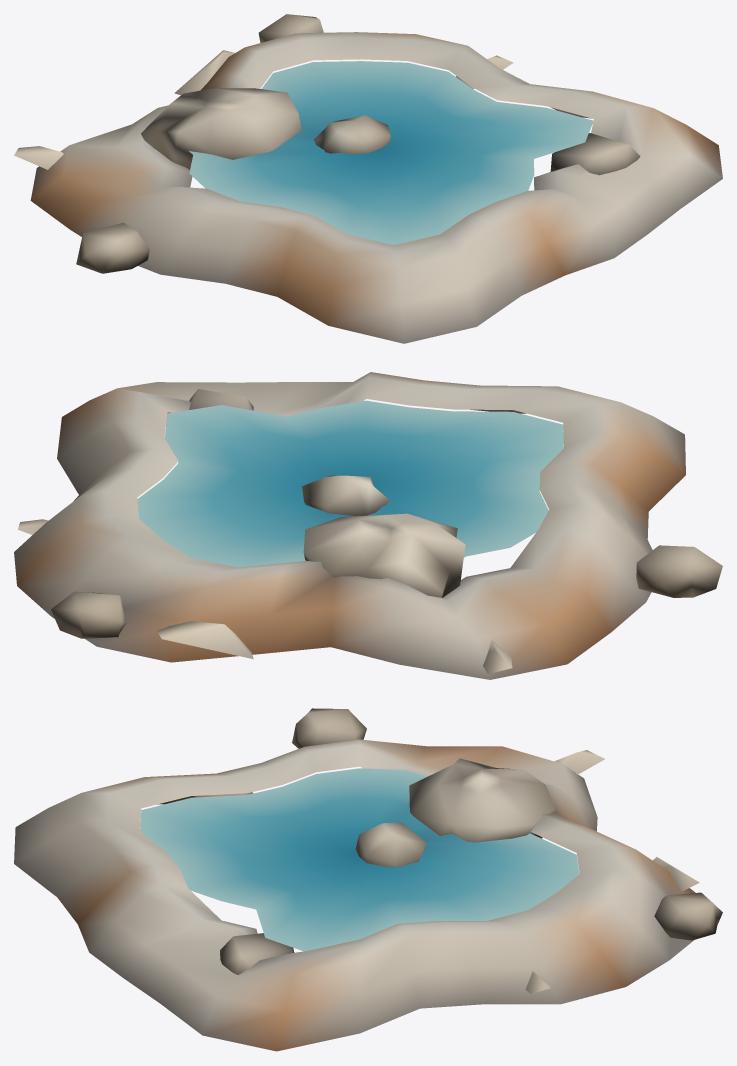
File: prop-scav-sinter-taken.glb
3 views of the same model, one above another, from view 1: azimuth 30°, elevation 25°; view 2: azimuth 150°, elevation 25°; view 3: azimuth 270°, elevation 25° (orthographic). The views are drawn at different scales.
Parts seen in each view (by area): view 1: body; view 2: body; view 3: body.
Part boxes in pixels (x1,y1,x2,y2): body: (14, 14, 722, 343); body: (14, 372, 722, 679); body: (14, 708, 722, 1051).
Bounding box in the file's own units: 1.46 × 0.1582 × 1.39.
